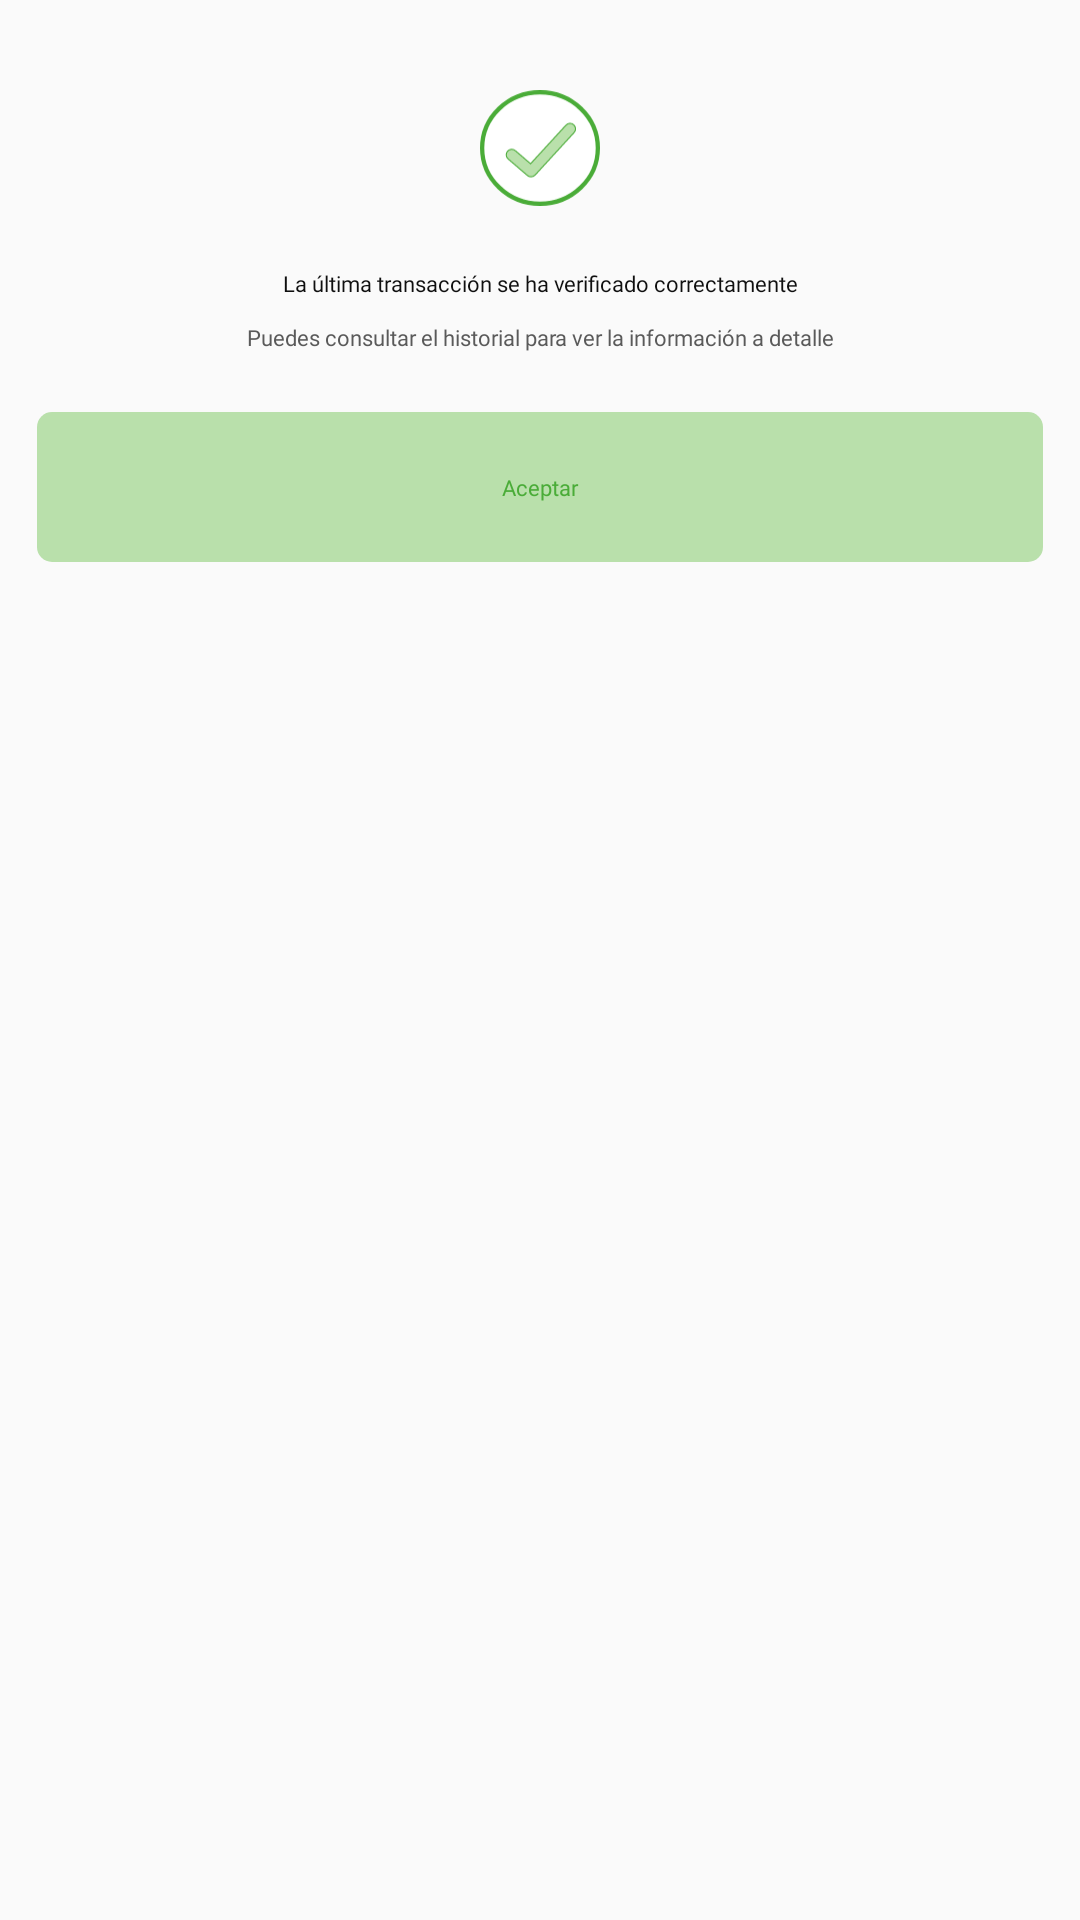

Icons on this 1080w x 1920h Android screen, each with the point to tap as point (x, y):
efevoo check exito: point (540, 148)
